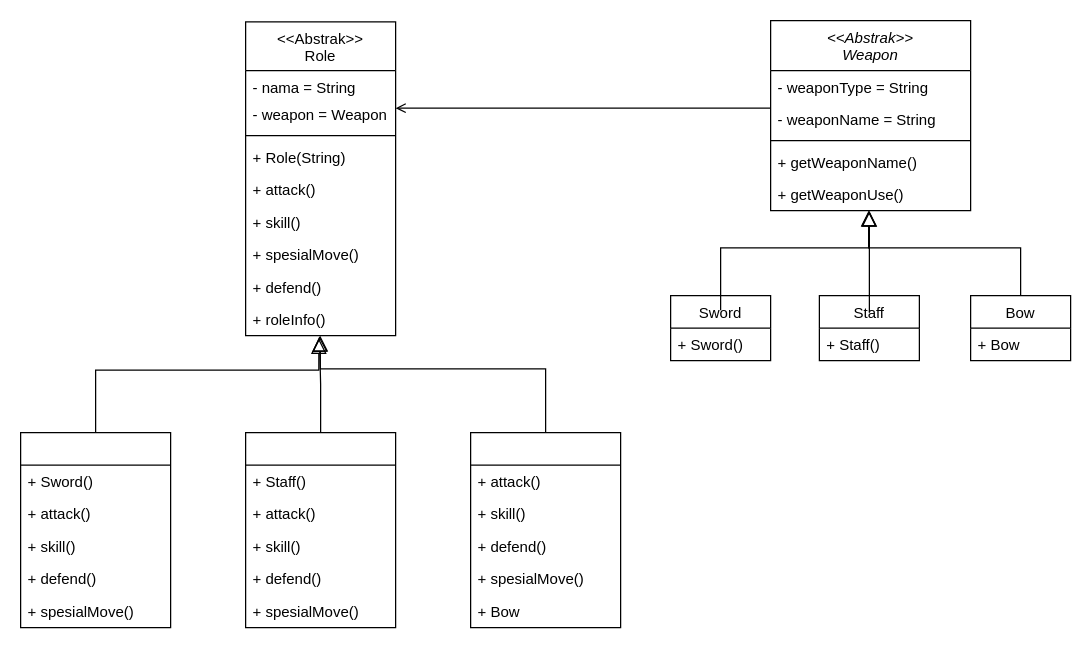
This 1091x648 diagram has some shape labels left out. Here are the shapes that lost their labels. From the top down, the box of each, then its label:
(19, 431, 171, 628): Warior
(244, 431, 396, 628): Mage
(469, 431, 621, 628): Archer
